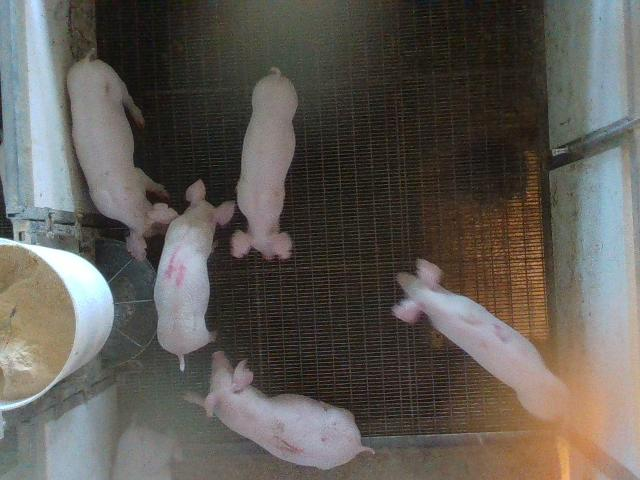pig-1: (184, 351, 374, 469)
pig-4: (154, 180, 235, 371)
